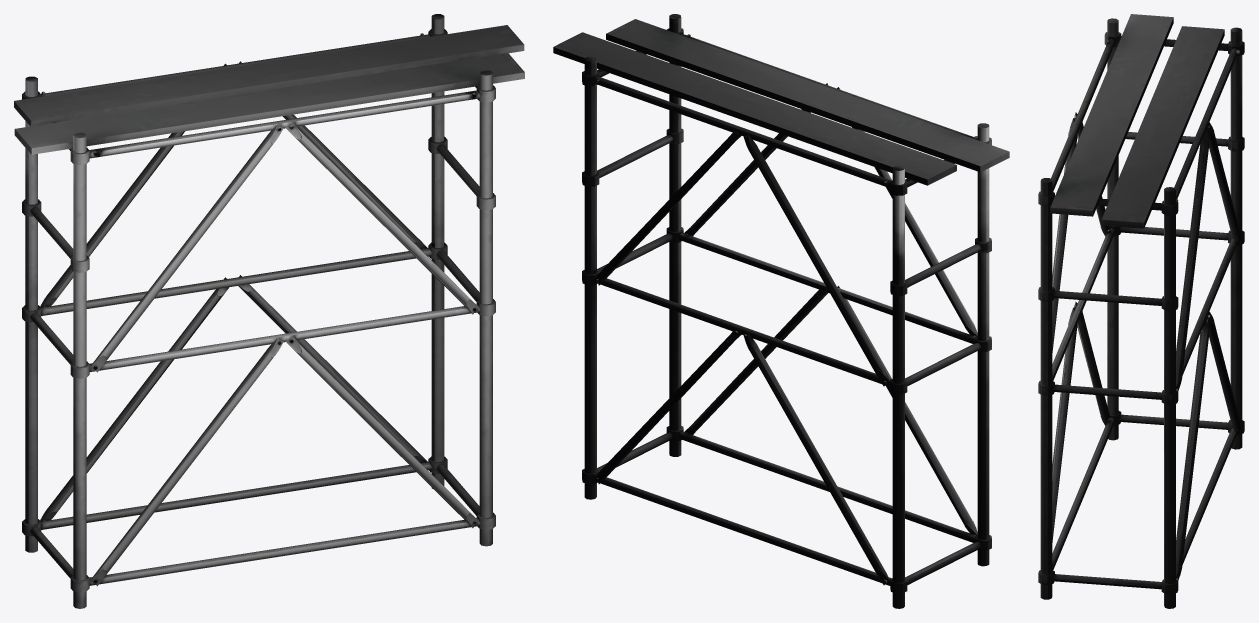
The picture shows the model from 3 angles, left to right: view 1: azimuth 30°, elevation 25°; view 2: azimuth 150°, elevation 25°; view 3: azimuth 270°, elevation 25°; orthographic projection. The views are drawn at different scales.
Parts seen in each view (by area): view 1: body0_model0_lod0_mesh0; view 2: body0_model0_lod0_mesh0; view 3: body0_model0_lod0_mesh0.
Part boxes in pixels (bbox=[...]): body0_model0_lod0_mesh0: bbox=[14, 14, 524, 608]; body0_model0_lod0_mesh0: bbox=[553, 14, 1009, 608]; body0_model0_lod0_mesh0: bbox=[1038, 14, 1244, 608].
Bounding box in the file's own units: 159 × 148 × 66.4.
Materials: 1 (1 with a texture image).
